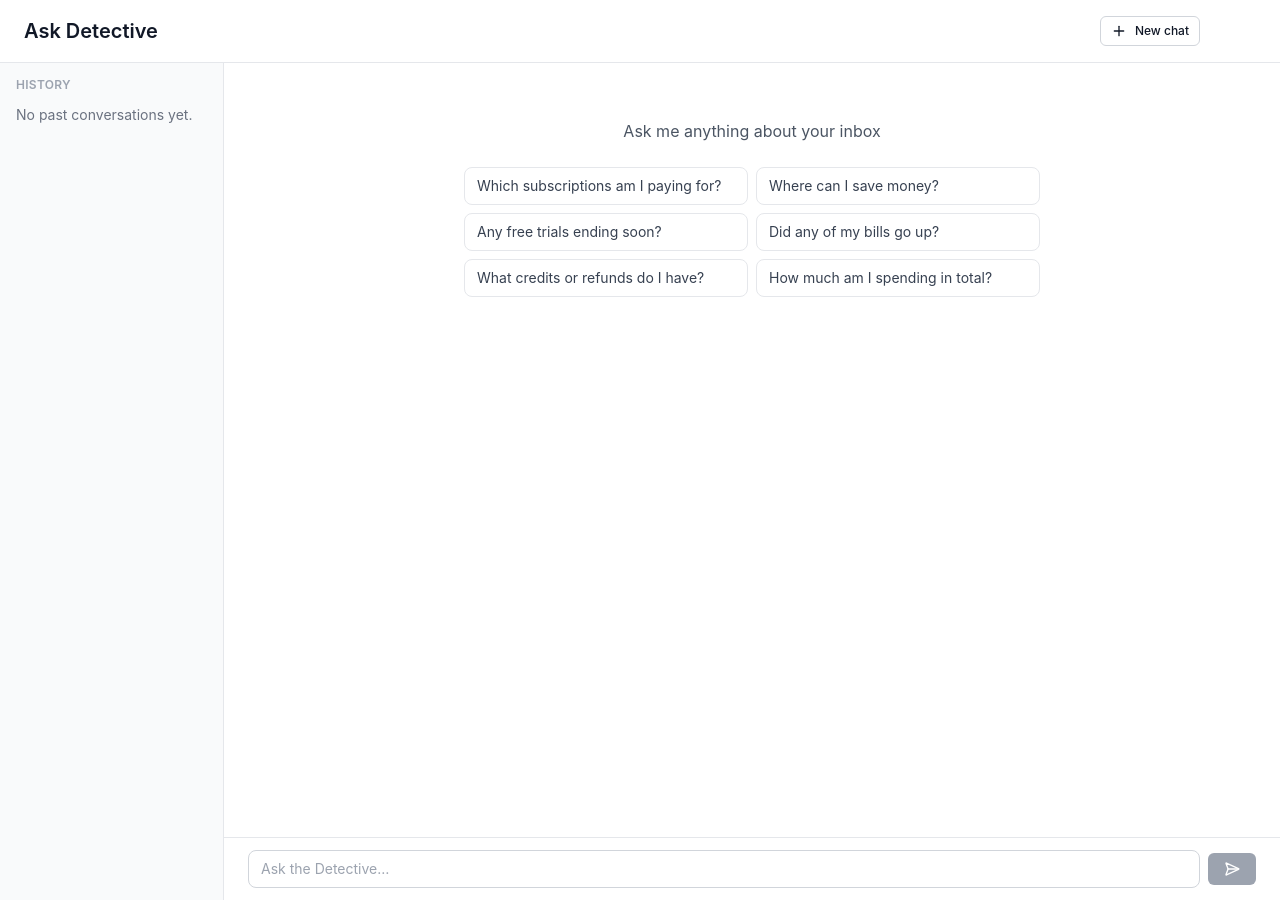
Test case: ChatPage — send flow › shows the user bubble, then the detective response rendered as-is with source chips
This screenshot has width=1280, height=900.
Type "Which subscriptions am I paying for?" into the field with test id "chat-input". click: [724, 869]
box: [248,850,1200,888]
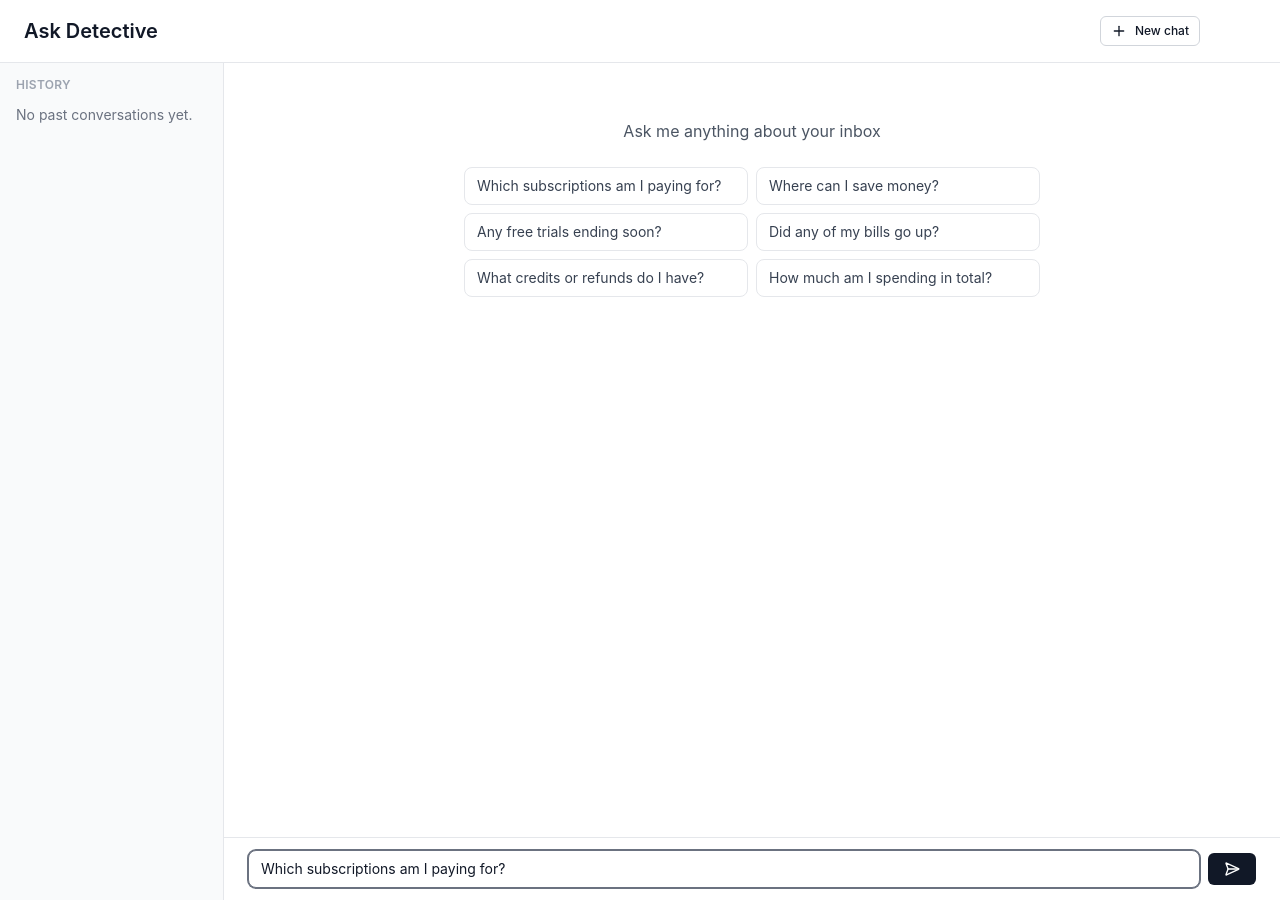
Click the button with test id "chat-send". click: [1232, 869]
box: [1208,853,1256,885]
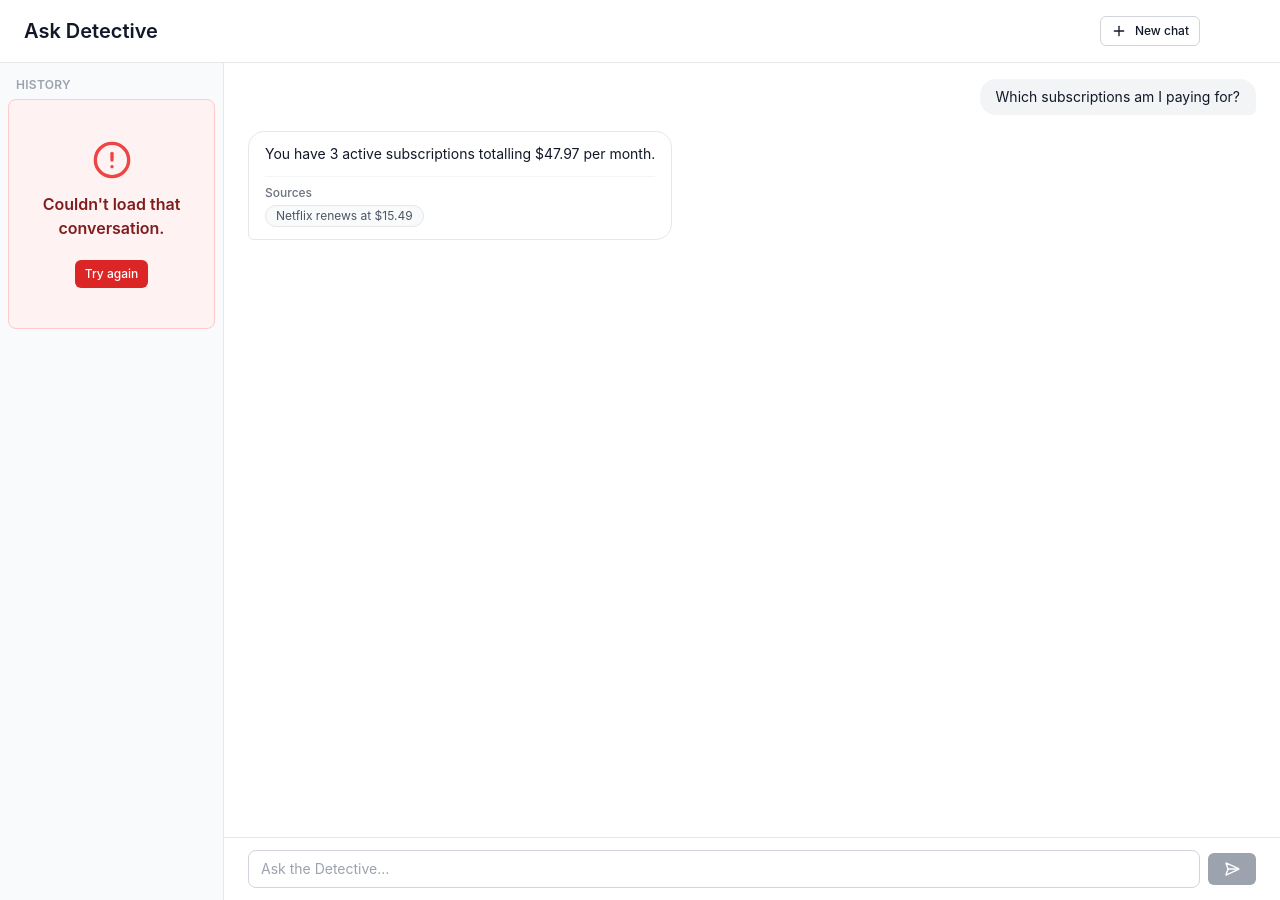
Result: the element with test id "chat-message-detective" shows "You have 3 active subscriptions totalling $47.97 per month." at [265,145,655,162]
Result: the number of links with test id "chat-source-chip" is 1 at [265,205,424,227]
Result: the link with test id "chat-source-chip" reads "Netflix renews at $15.49" at [265,205,424,227]
